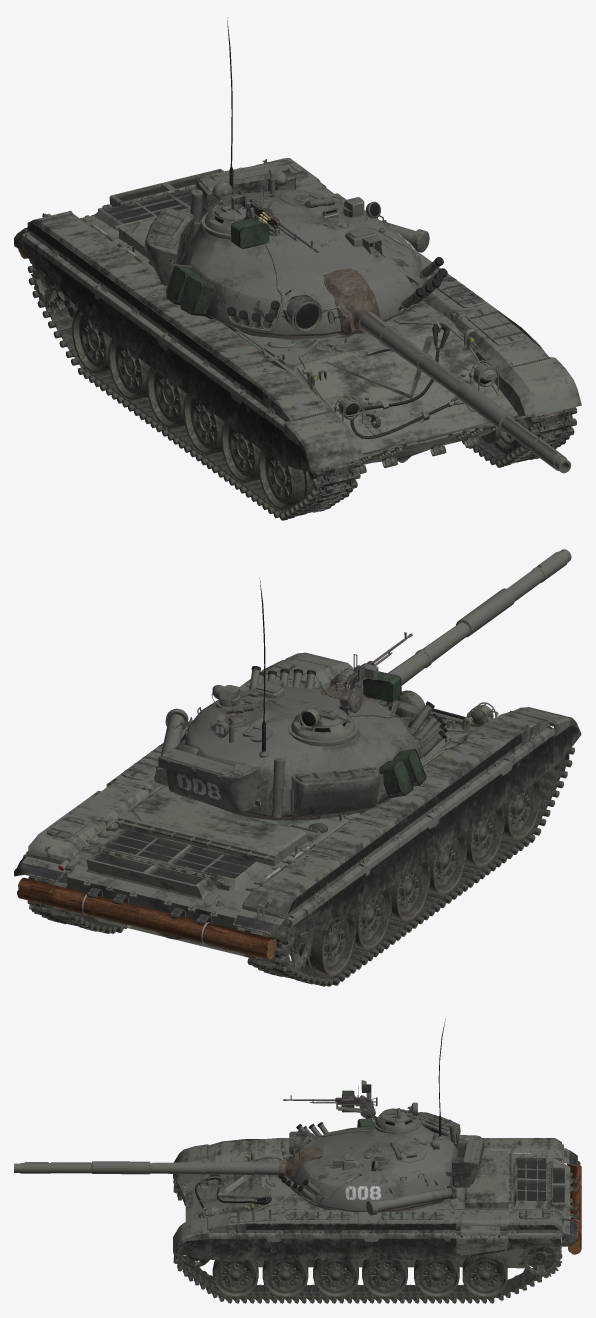
3 views of the same model, one above another, from view 1: azimuth 30°, elevation 25°; view 2: azimuth 150°, elevation 25°; view 3: azimuth 270°, elevation 25° (orthographic). The views are drawn at different scales.
Parts seen in each view (by area): view 1: hull, turret, track; view 2: hull, turret, track; view 3: hull, turret, track.
Part boxes in pixels (<box>): hull: <box>14,158,581,473</box>; turret: <box>144,17,571,473</box>; track: <box>27,259,577,520</box>; hull: <box>14,652,581,959</box>; turret: <box>154,549,571,820</box>; track: <box>27,747,574,986</box>; hull: <box>173,1138,581,1268</box>; turret: <box>14,1019,484,1215</box>; track: <box>173,1179,562,1303</box>.
Bounding box in the file's own units: 3.58 × 4.44 × 9.51.
Materials: 5 (5 with a texture image).
